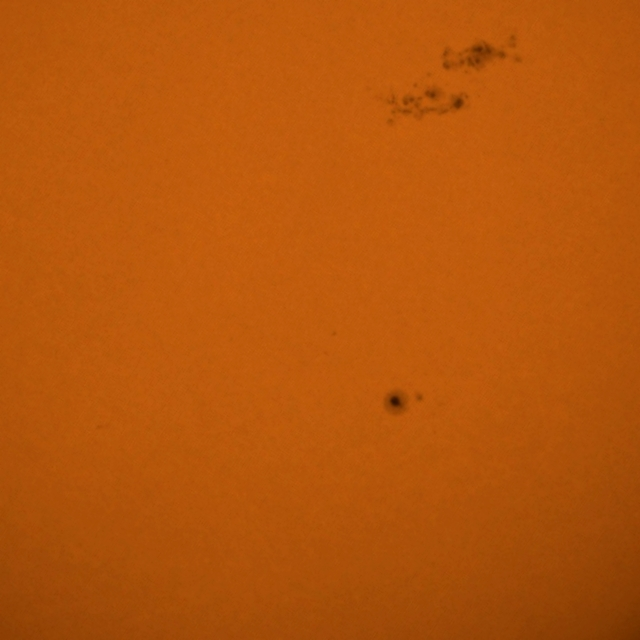sunspot: (432, 25, 527, 77), (386, 388, 426, 418)
